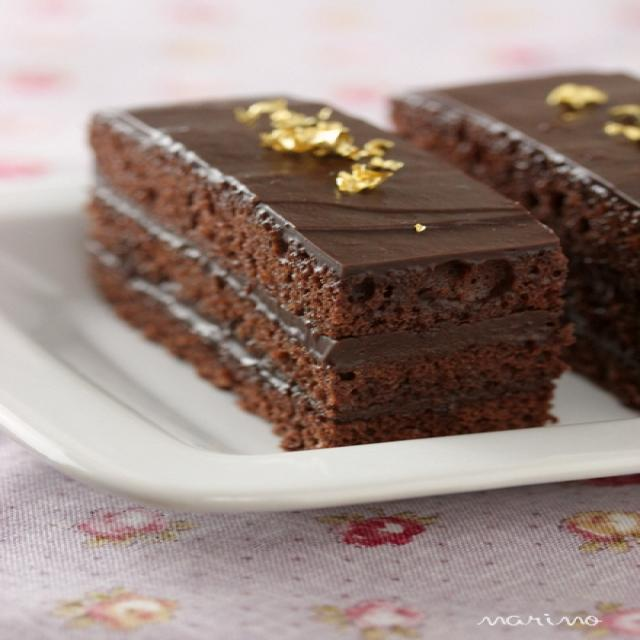chocolatecake: (61, 63, 640, 465)
